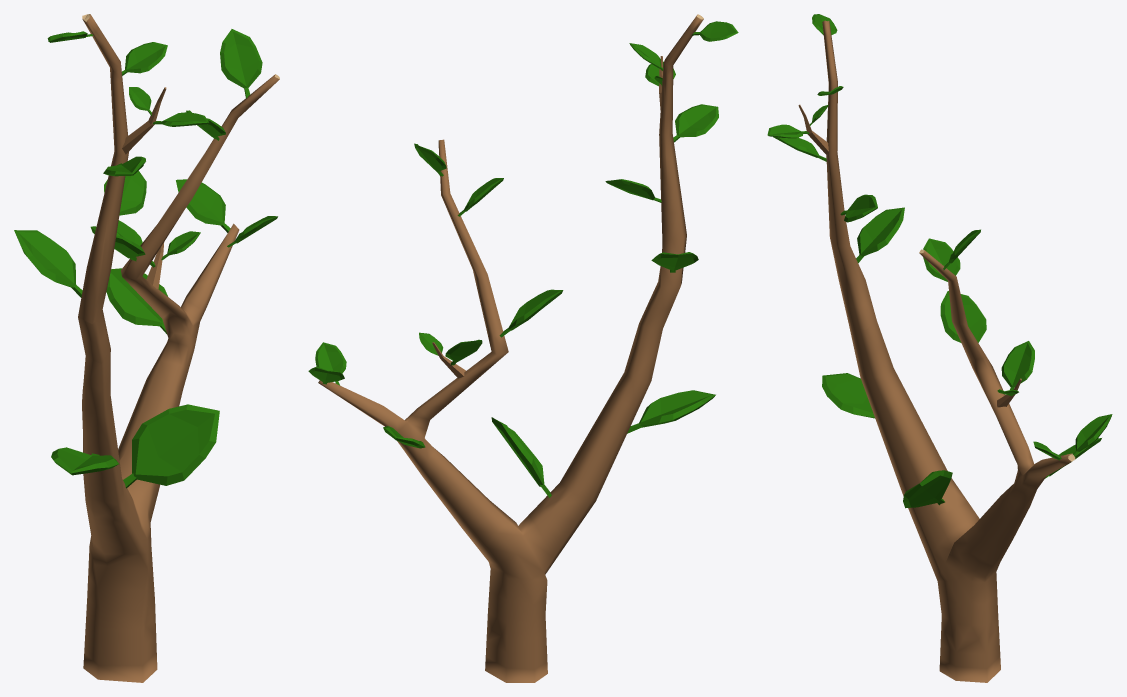
Rendered from branches leaf 04.fbx.
The picture shows the model from 3 angles, left to right: view 1: azimuth 30°, elevation 25°; view 2: azimuth 150°, elevation 25°; view 3: azimuth 270°, elevation 25°; orthographic projection. The views are drawn at different scales.
Parts seen in each view (by area): view 1: branch; view 2: branch; view 3: branch.
Part boxes in pixels (x1,y1,x2,y2): branch: (14, 14, 279, 682); branch: (308, 14, 738, 682); branch: (767, 14, 1112, 682).
Bounding box in the file's own units: 276 × 546 × 283.
